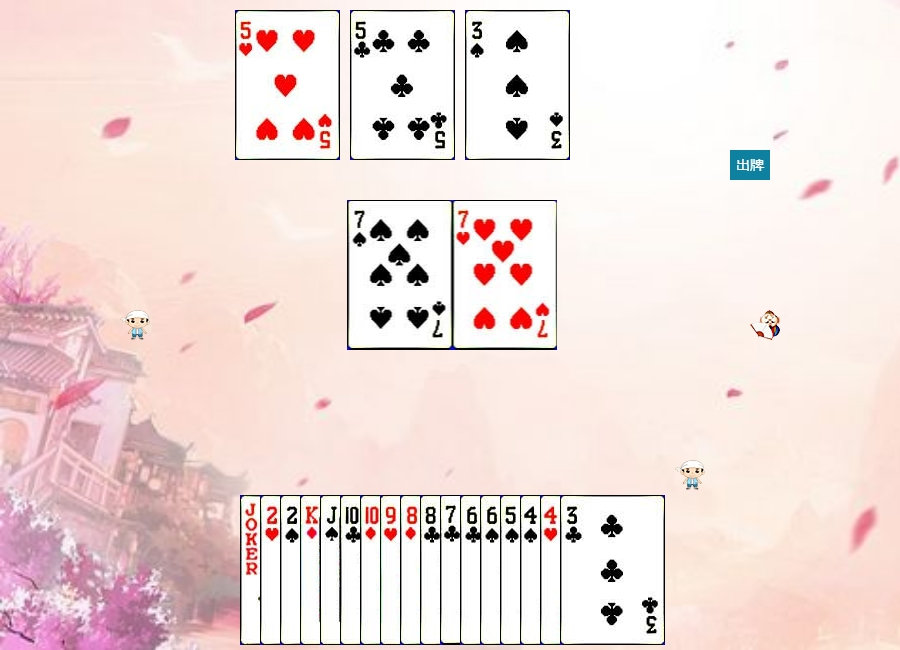10~1: (360, 495, 465, 645)
10~2: (340, 495, 445, 645)
11~4: (320, 495, 425, 645)
13~1: (300, 495, 405, 645)
15~3: (260, 495, 365, 645)
15~4: (280, 495, 385, 645)
18~4: (240, 495, 345, 645)
3~2: (560, 495, 665, 645)
3~4: (465, 10, 570, 160)
4~3: (540, 495, 645, 645)
4~4: (520, 495, 625, 645)
5~2: (350, 10, 455, 160)
5~3: (235, 10, 340, 160)
5~4: (500, 495, 605, 645)
6~2: (460, 495, 565, 645)
6~4: (480, 495, 585, 645)
7~2: (440, 495, 545, 645)
7~3: (453, 200, 558, 350)
7~4: (348, 200, 453, 350)
8~1: (400, 495, 505, 645)
8~2: (420, 495, 525, 645)
9~3: (380, 495, 485, 645)
